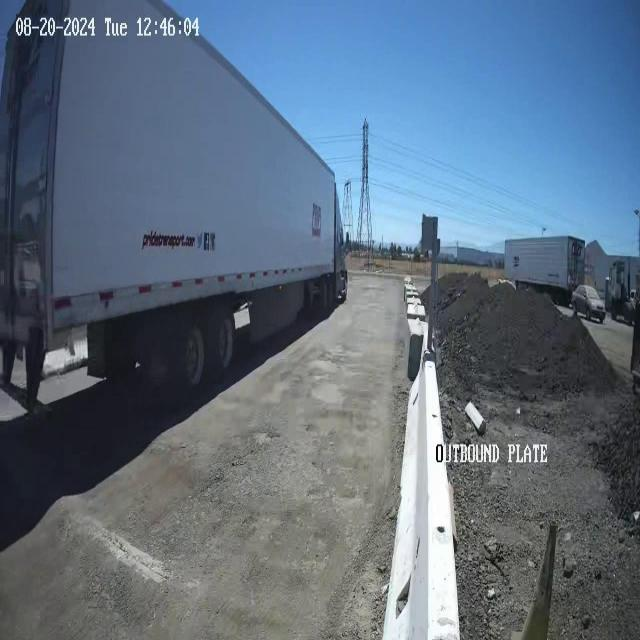TRUCK_CONTAINER: (1, 0, 349, 414)
